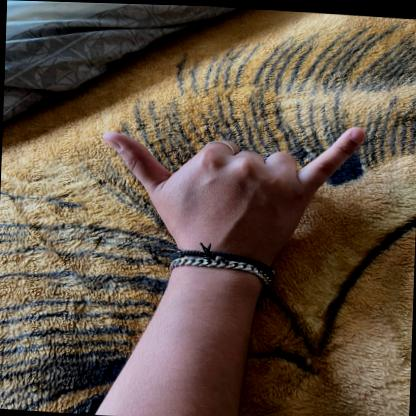Y: (93, 101, 367, 261)
